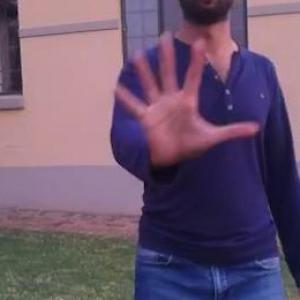follow_hand: (109, 24, 258, 174)
